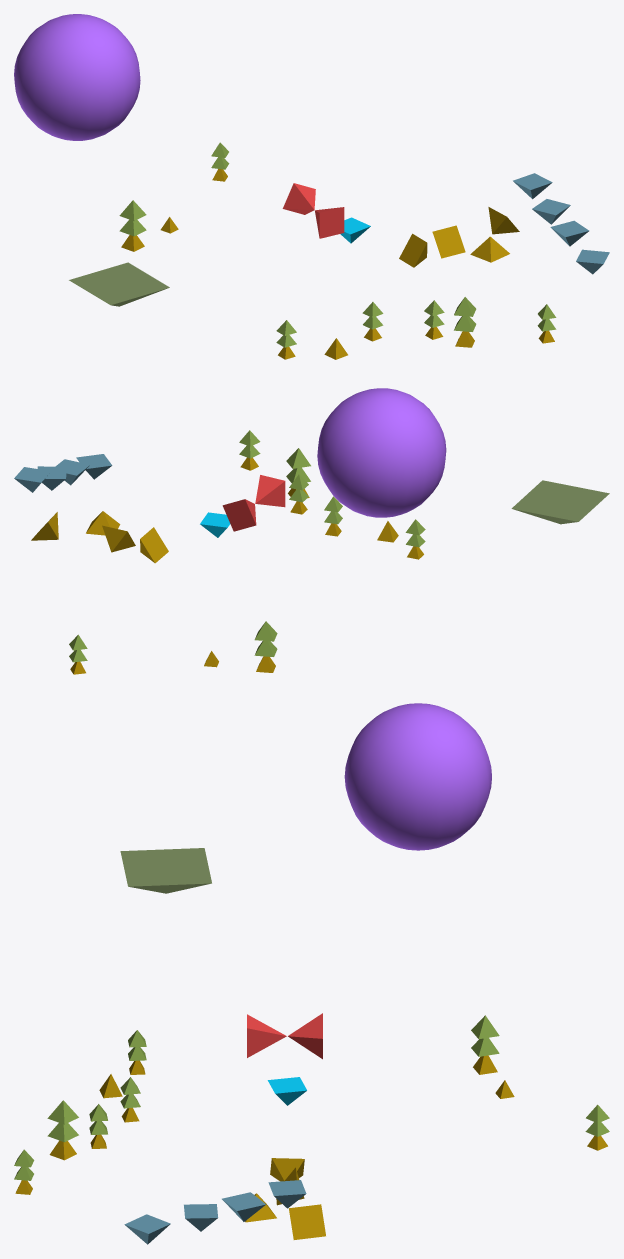
File: level_present.fbx
3 renders of one model, top to bottom at view 1: azimuth 30°, elevation 25°; view 2: azimuth 150°, elevation 25°; view 3: azimuth 270°, elevation 25°, orthographic. The views are drawn at different scales.
Parts seen in each view (by area): view 1: pSphere2, island1, blocker, blocker1, pasted__bridge_part1, pasted__bridge_part, pasted__platform3, pasted__bridge_part2, platform1, pasted__platform2, pasted__platform, pasted__bridge_part3; view 2: pSphere2, island1, blocker, blocker1, pasted__bridge_part, pasted__bridge_part1, pasted__platform3, pasted__platform, platform5, pasted__platform2, pasted__bridge_part2, platform1 (+1 smaller); view 3: pSphere2, island1, pasted__bridge_part3, blocker, blocker1, pasted__platform, pasted__platform2, platform1, pasted__platform3.
Part boxes in pixels (x1,y1,x2,y2): pSphere2: [14, 14, 140, 140]; island1: [69, 262, 169, 306]; blocker: [315, 207, 344, 238]; blocker1: [282, 183, 315, 214]; pasted__bridge_part1: [432, 225, 465, 258]; pasted__bridge_part: [399, 233, 427, 267]; pasted__platform3: [513, 173, 552, 199]; pasted__bridge_part2: [470, 236, 509, 262]; platform1: [550, 220, 589, 246]; pasted__platform2: [532, 199, 570, 224]; pasted__platform: [576, 249, 609, 274]; pasted__bridge_part3: [488, 207, 519, 234]; pSphere2: [317, 388, 446, 517]; island1: [511, 480, 609, 524]; blocker: [255, 475, 285, 507]; blocker1: [222, 499, 256, 531]; pasted__bridge_part: [140, 527, 168, 563]; pasted__bridge_part1: [102, 525, 135, 552]; pasted__platform3: [14, 467, 50, 492]; pasted__platform: [76, 454, 112, 479]; platform5: [200, 512, 230, 537]; pasted__platform2: [37, 466, 66, 490]; pasted__bridge_part2: [86, 511, 120, 535]; platform1: [55, 459, 89, 485]; pSphere2: [344, 703, 491, 850]; island1: [120, 848, 211, 893]; pasted__bridge_part3: [289, 1204, 325, 1239]; blocker: [247, 1014, 286, 1057]; blocker1: [288, 1013, 322, 1059]; pasted__platform: [124, 1214, 170, 1244]; pasted__platform2: [222, 1192, 265, 1221]; platform1: [184, 1204, 218, 1231]; pasted__platform3: [268, 1180, 306, 1208].
Size of the model in its own units: 65.98 by 32.77 by 56.8.
